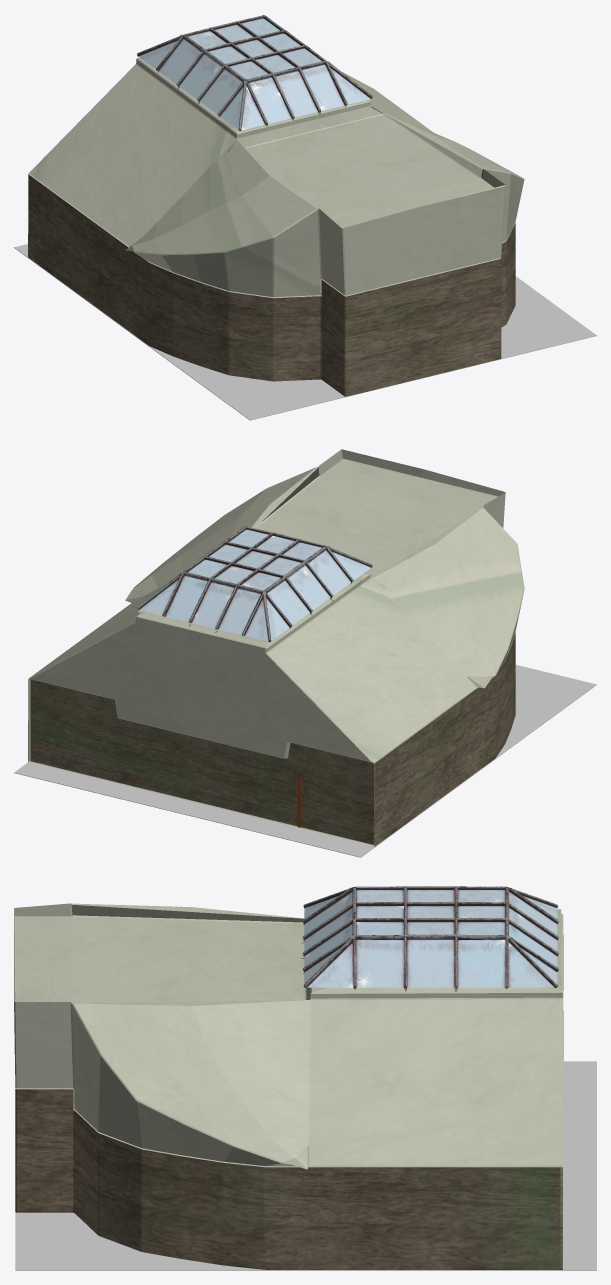
The model's file is Room.fbx.
3 views of the same model, one above another, from view 1: azimuth 30°, elevation 25°; view 2: azimuth 150°, elevation 25°; view 3: azimuth 270°, elevation 25° (orthographic). The views are drawn at different scales.
Visible parts, largest first — view 1: pCube5, polySurface105, polySurface37; view 2: pCube5, polySurface105, polySurface37; view 3: pCube5, polySurface105, polySurface37.
Part boxes in pixels (x1,y1,x2,y2): pCube5: (28, 57, 524, 396); polySurface105: (137, 15, 372, 130); polySurface37: (14, 244, 596, 420); pCube5: (28, 449, 524, 846); polySurface105: (137, 526, 372, 641); polySurface37: (14, 665, 596, 857); pCube5: (14, 903, 563, 1269); polySurface105: (301, 886, 558, 992); polySurface37: (15, 1061, 596, 1270).
Bounding box in the file's own units: 1361 × 1544 × 750.
